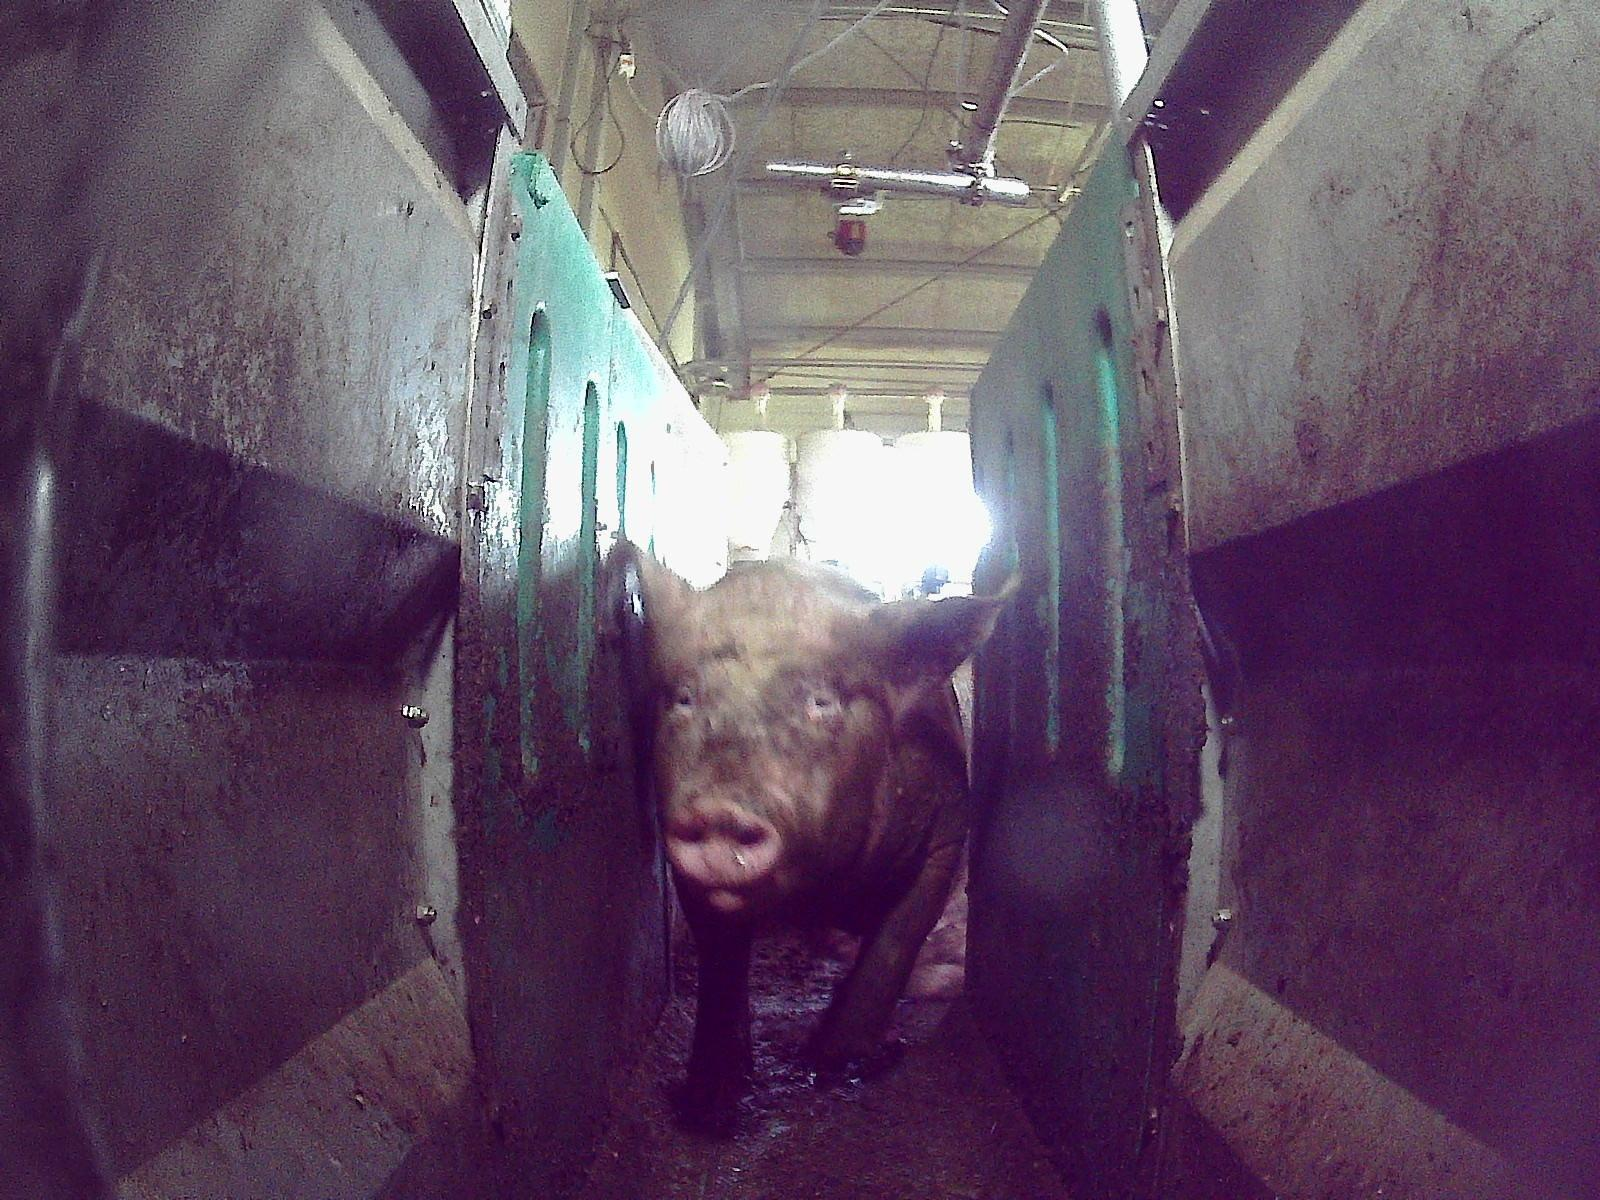Face: (648, 595, 883, 923)
